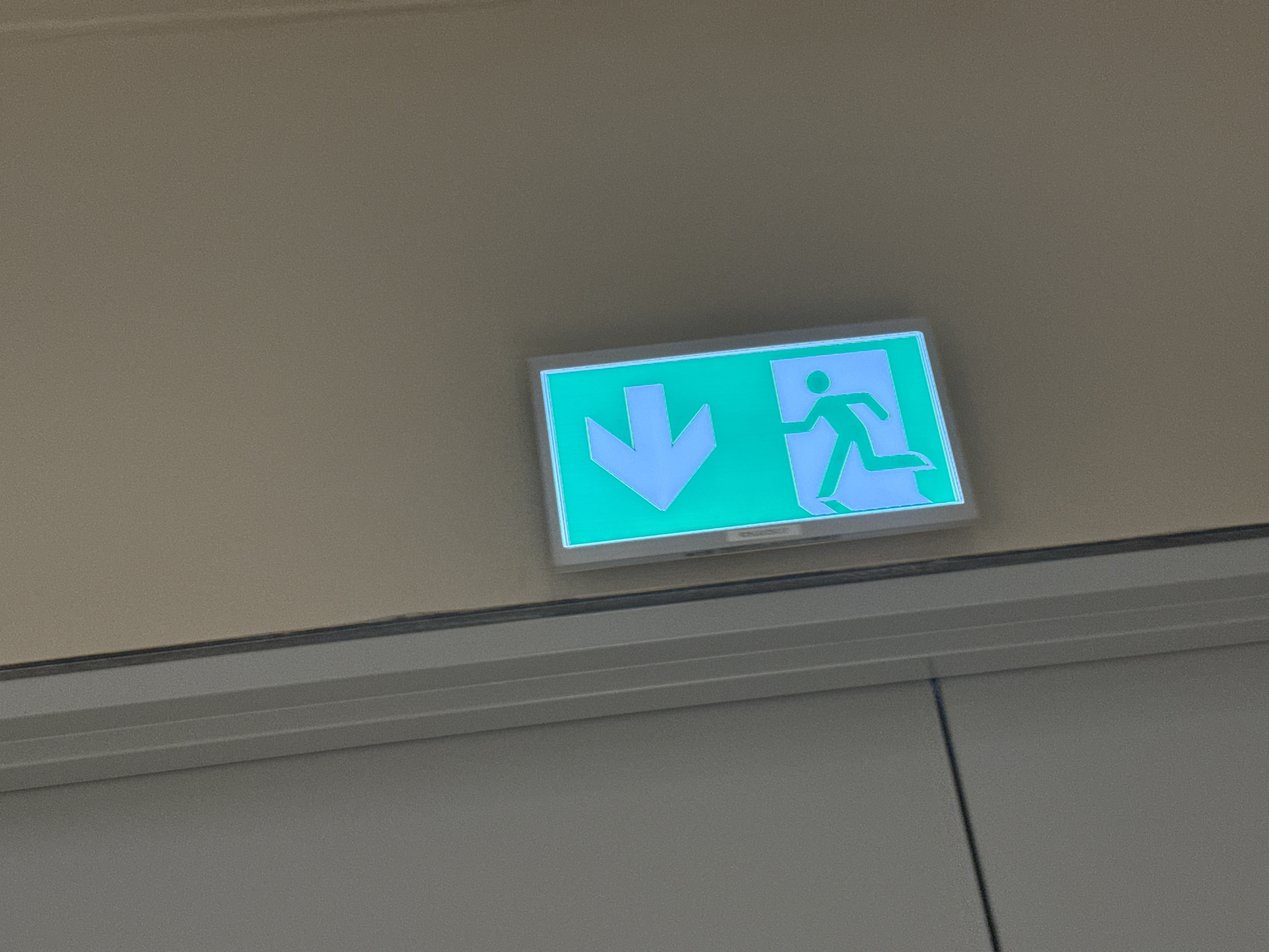emergency_exit: (526, 319, 979, 570)
